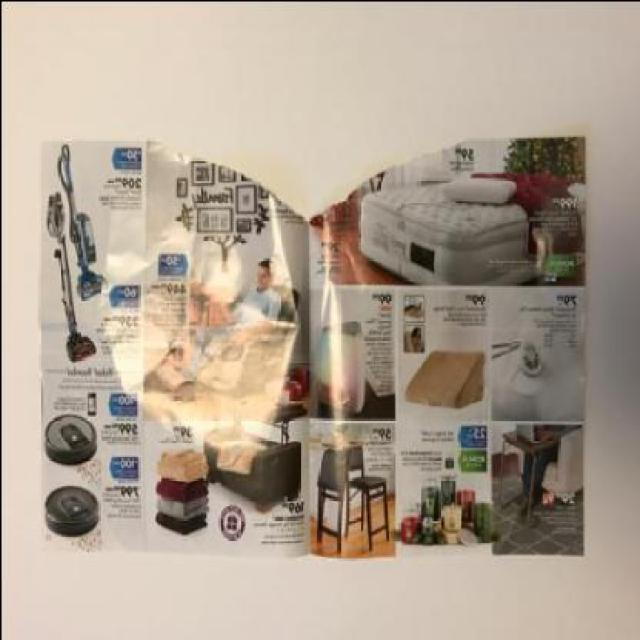PAPER: (36, 120, 587, 560)
